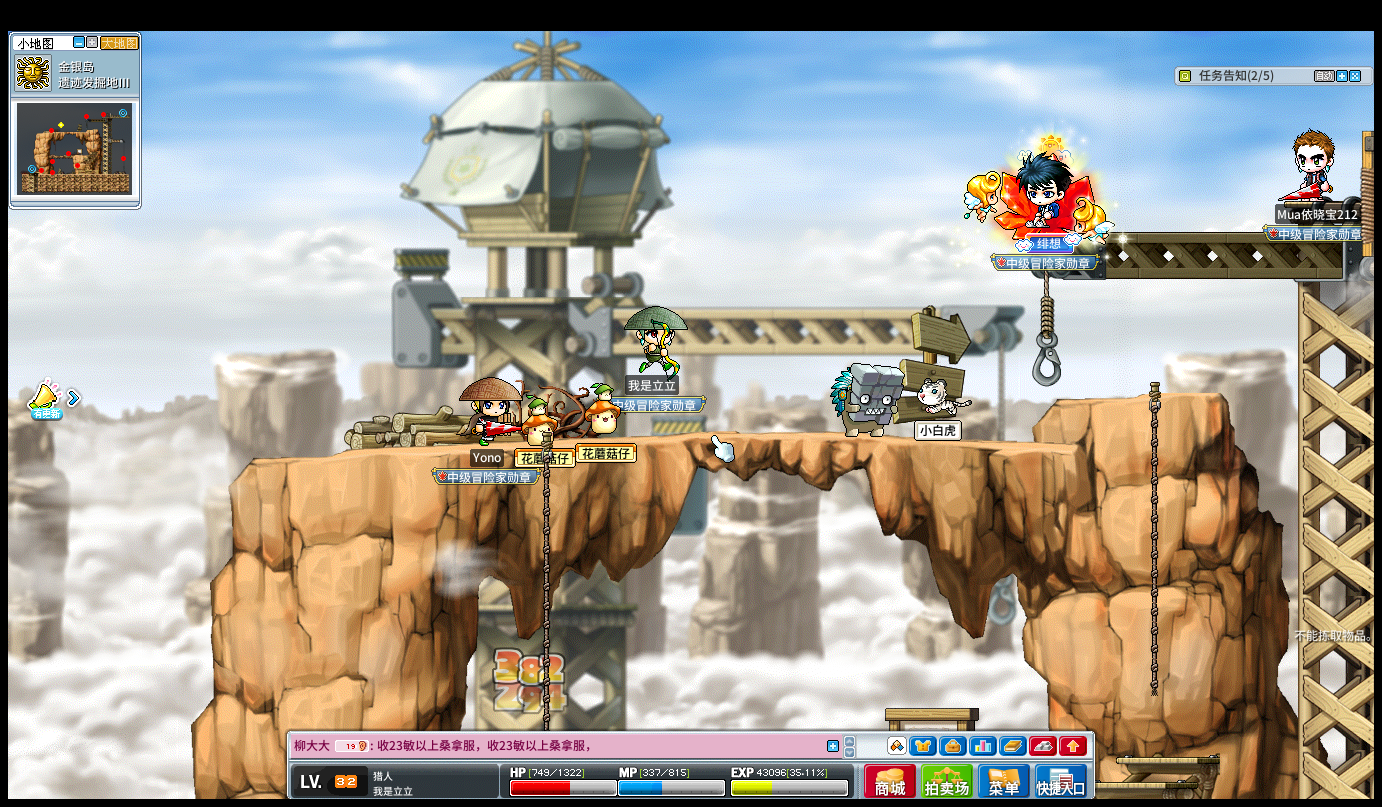floor: (235, 428, 1096, 449), (544, 429, 1060, 444), (1055, 389, 1228, 403), (1115, 753, 1221, 766)
monster: (830, 361, 902, 438)
rope: (1145, 376, 1161, 698), (540, 429, 551, 753), (541, 428, 552, 670)
